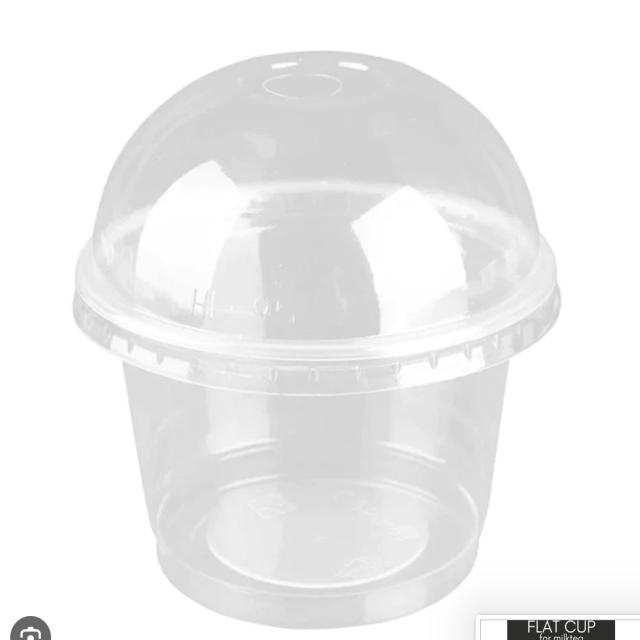recyclable: (65, 27, 573, 636)
